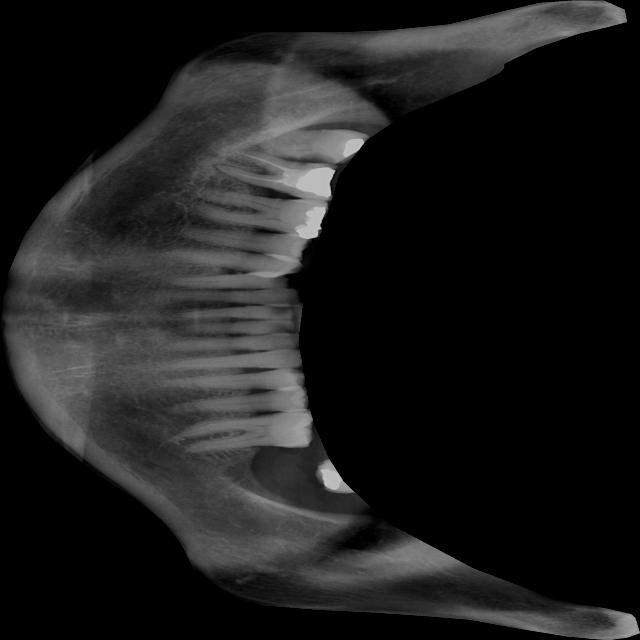mandibula: (0, 0, 639, 640)
